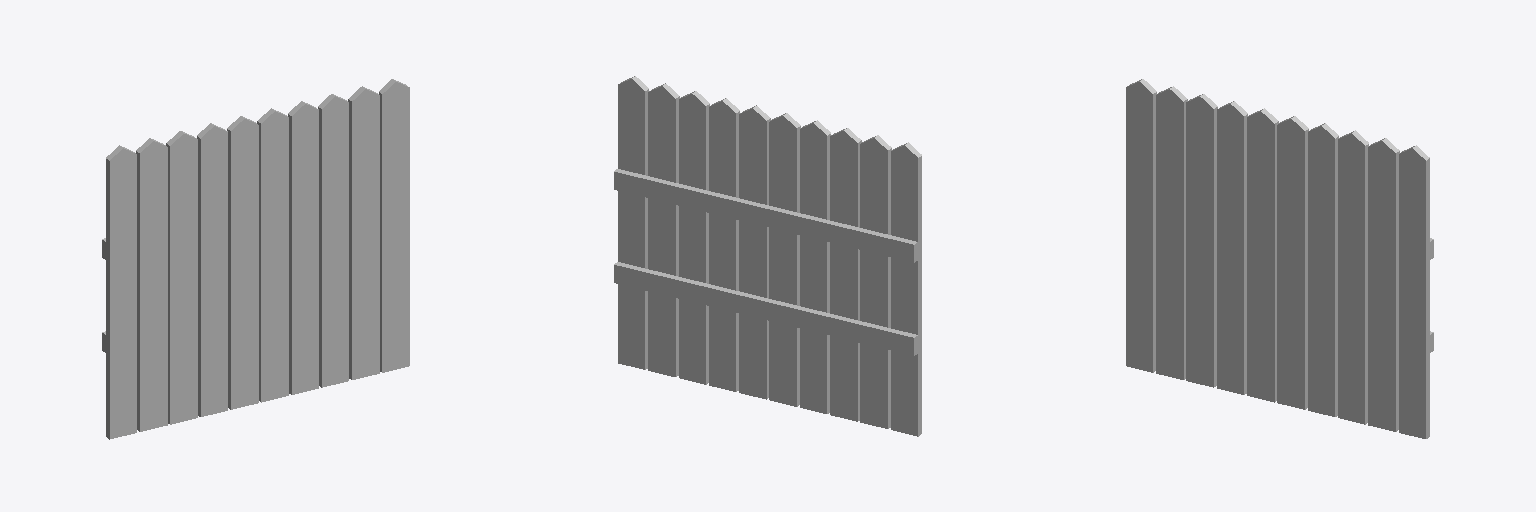
File: fence.obj
The picture shows the model from 3 angles: view 1: azimuth 30°, elevation 25°; view 2: azimuth 150°, elevation 25°; view 3: azimuth 330°, elevation 25°; orthographic projection.
Visible parts, largest first — view 1: Fence_Type3_02_Model; view 2: Fence_Type3_02_Model; view 3: Fence_Type3_02_Model.
Part boxes in pixels (left/top/right/bottom): Fence_Type3_02_Model: left=102, top=79, right=409, bottom=439; Fence_Type3_02_Model: left=614, top=76, right=921, bottom=436; Fence_Type3_02_Model: left=1126, top=79, right=1433, bottom=438.
Size of the model in its own units: 3.22 by 2.95 by 0.1461.